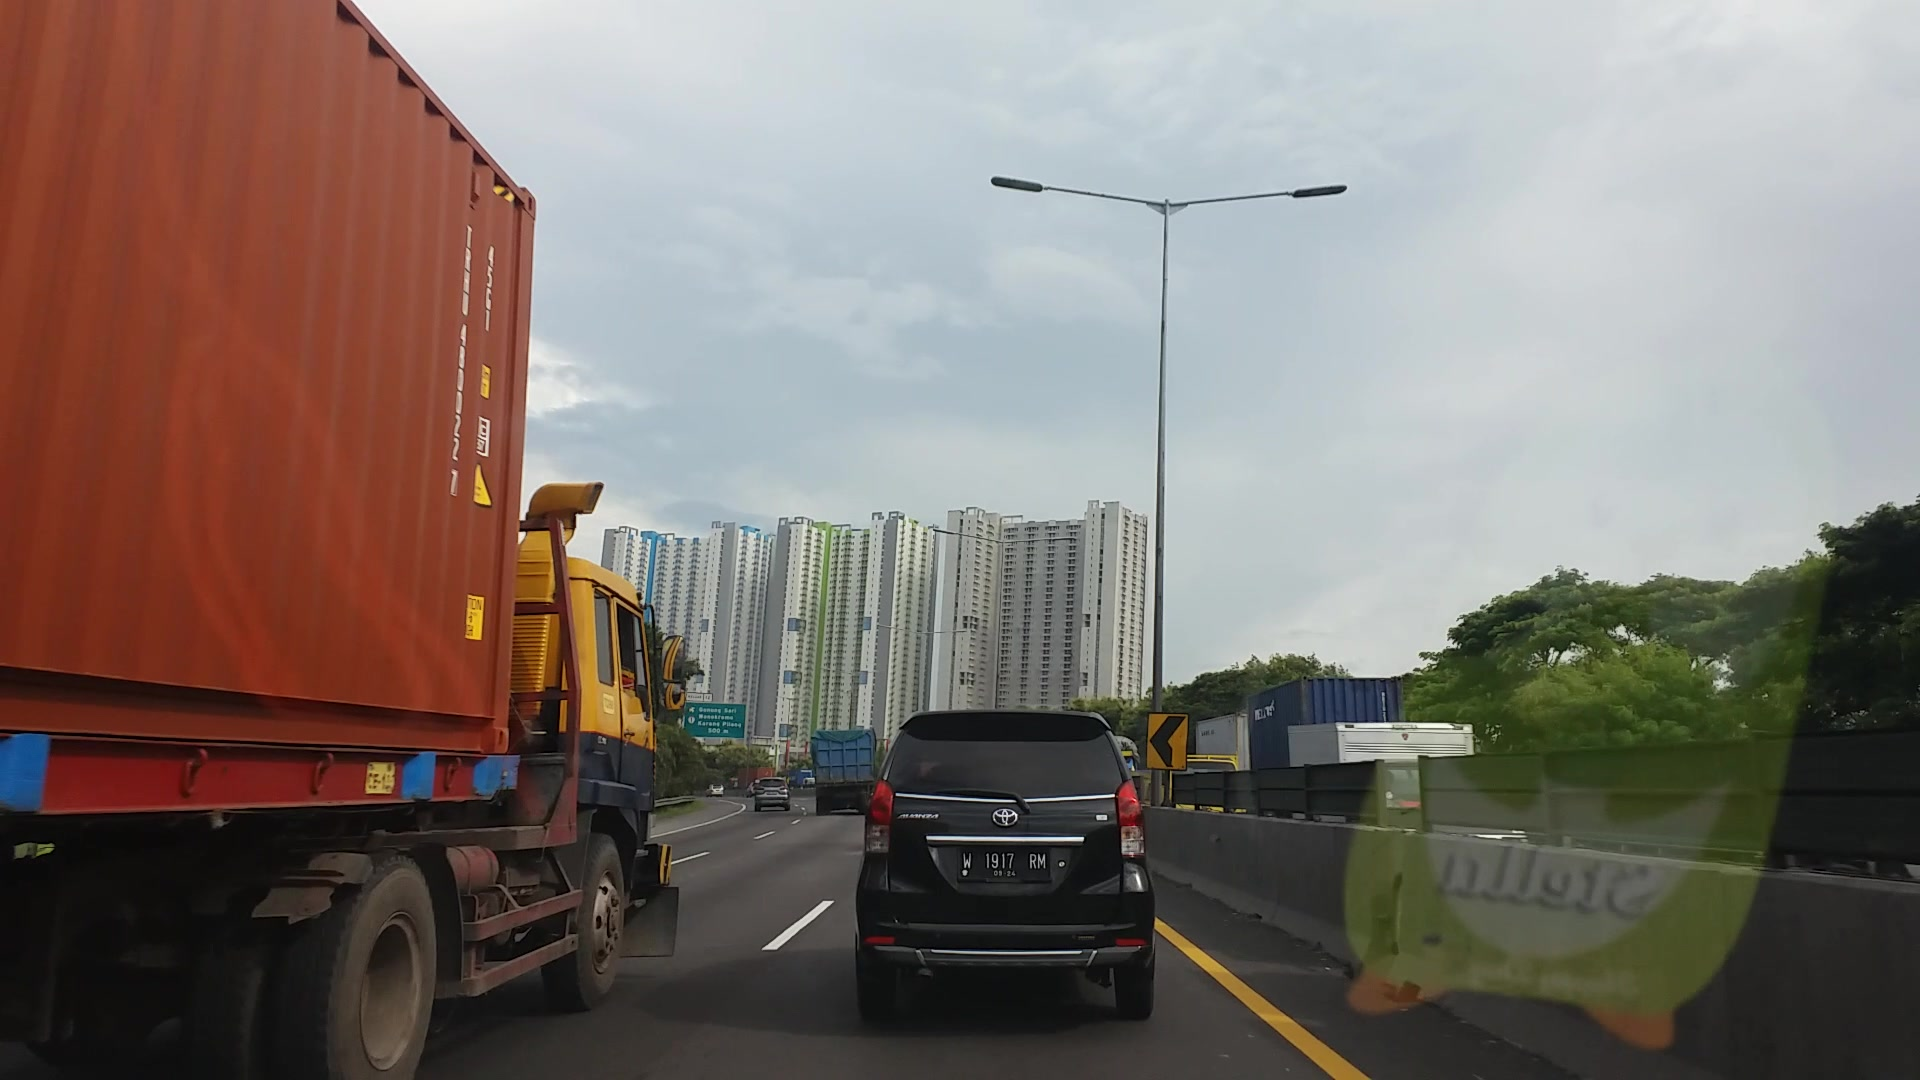plate_positive: (956, 844, 1052, 885)
